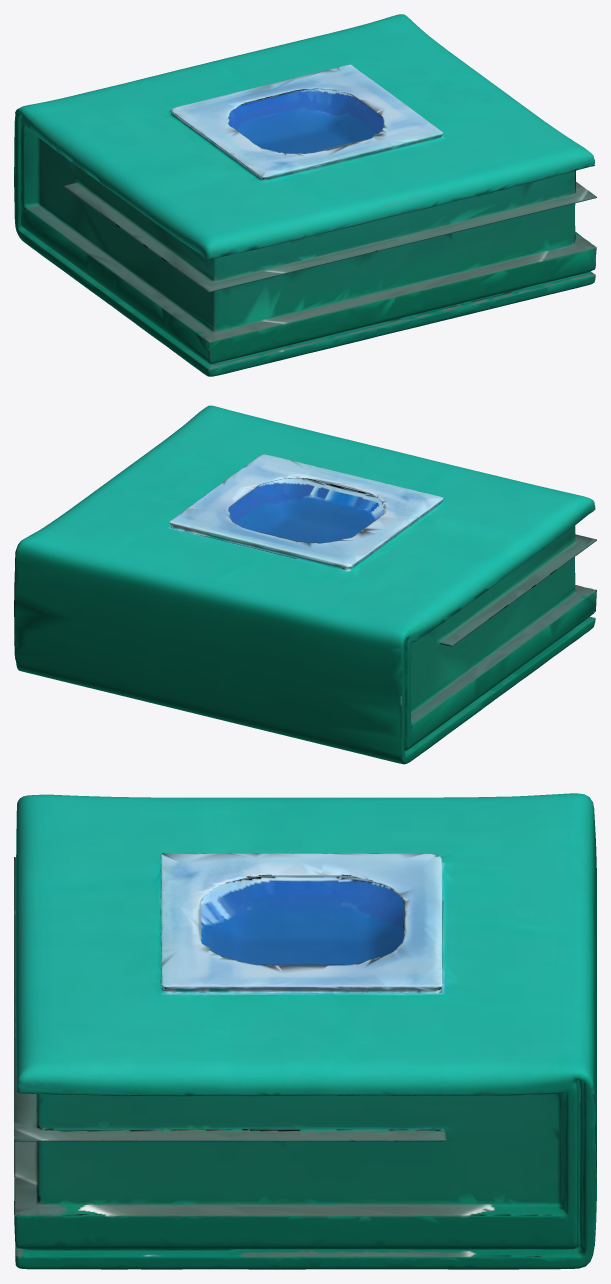
File: vet_equip_surgical_drape.glb
The picture shows the model from 3 angles, top to bottom: view 1: azimuth 30°, elevation 25°; view 2: azimuth 150°, elevation 25°; view 3: azimuth 270°, elevation 25°; orthographic projection. The views are drawn at different scales.
Parts seen in each view (by area): view 1: model; view 2: model; view 3: model.
Boxes of the visible parts, x1,y1,x2,y2 form: model: [14, 14, 596, 376]; model: [14, 405, 596, 764]; model: [14, 793, 596, 1269].
Size of the model in its own units: 1.9 by 0.6692 by 1.65.
1 material, 1 textured.
